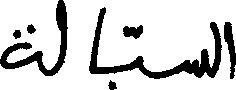X: (0, 19, 39, 74), (90, 2, 104, 78), (186, 44, 208, 82), (58, 0, 65, 89), (226, 17, 235, 83), (135, 20, 144, 79), (212, 17, 220, 82)
